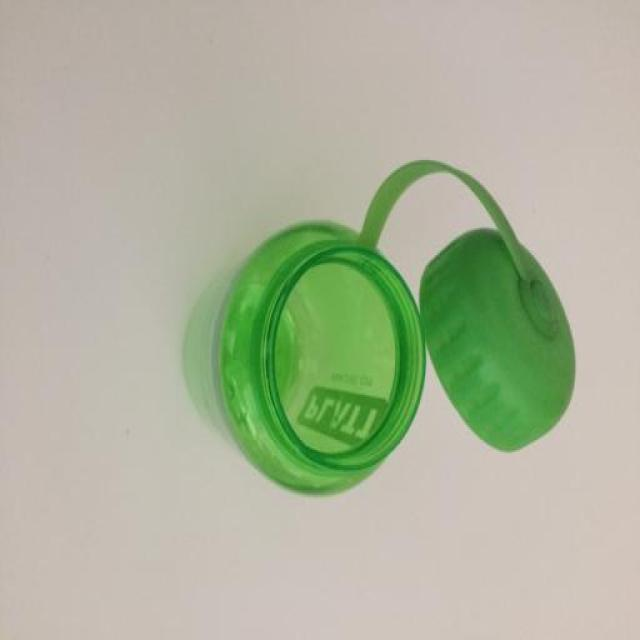Plastic: (181, 160, 576, 497)
